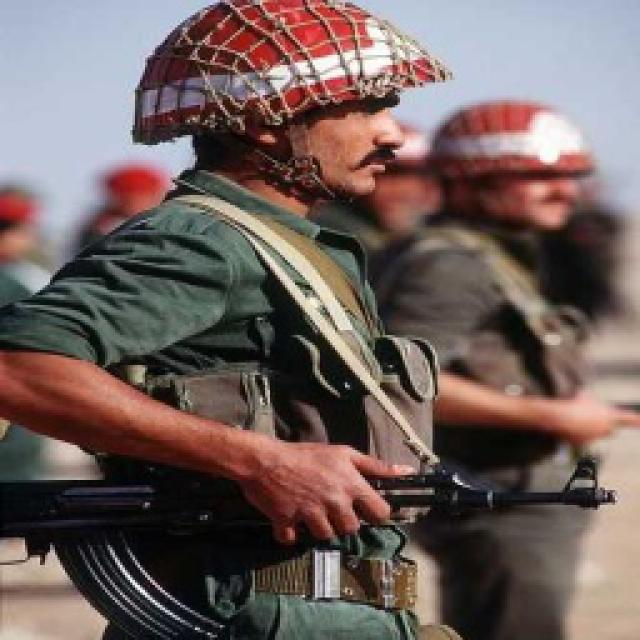long weapon: (0, 450, 628, 638)
